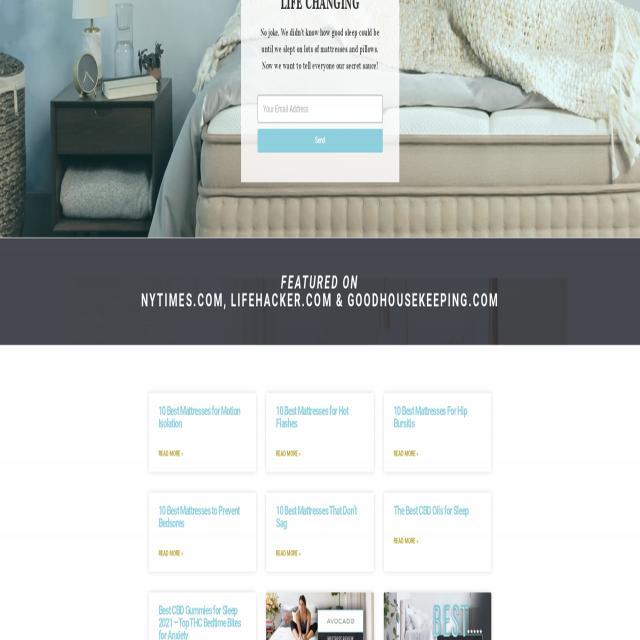button: (257, 129, 383, 152)
field: (257, 95, 383, 123)
